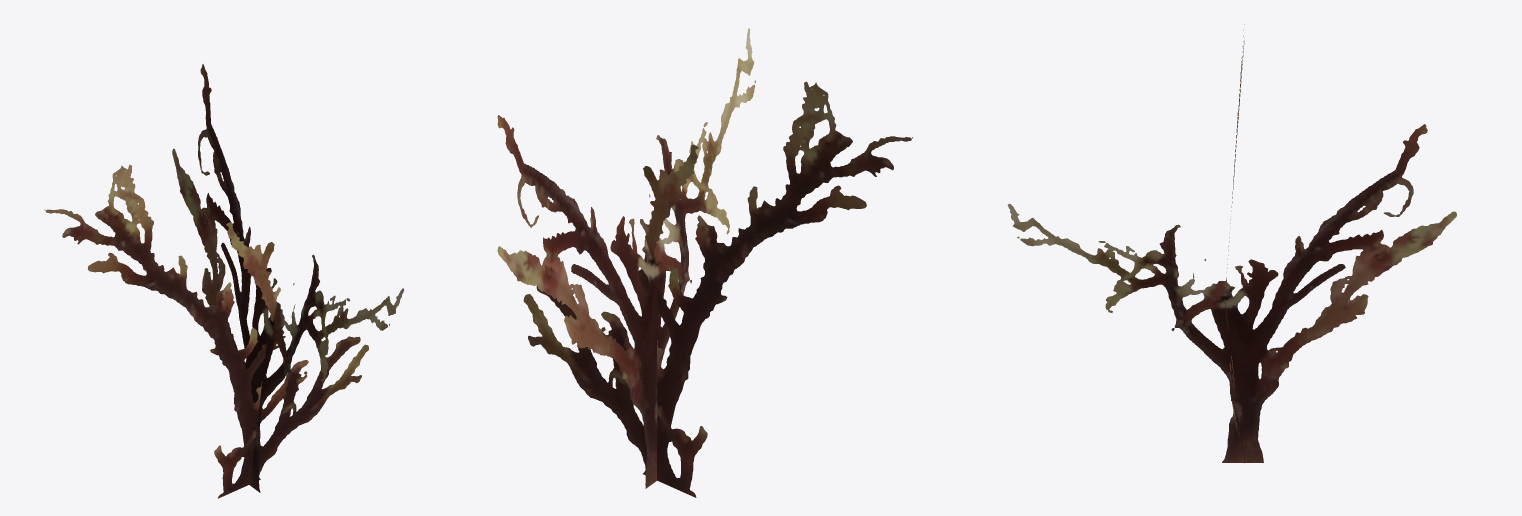
Rendered from seaweed_3_7.FBX.
The picture shows the model from 3 angles, left to right: view 1: azimuth 30°, elevation 25°; view 2: azimuth 150°, elevation 25°; view 3: azimuth 270°, elevation 25°; orthographic projection. The views are drawn at different scales.
Parts seen in each view (by area): view 1: seaweed_3_07; view 2: seaweed_3_07; view 3: seaweed_3_07.
Boxes of the visible parts, x1=… form: seaweed_3_07: x1=44, y1=64, x2=404, y2=498; seaweed_3_07: x1=497, y1=28, x2=912, y2=497; seaweed_3_07: x1=1007, y1=24, x2=1456, y2=463.
Bounding box in the file's own units: 14.77 × 14.37 × 17.72.
1 material, 1 textured.
